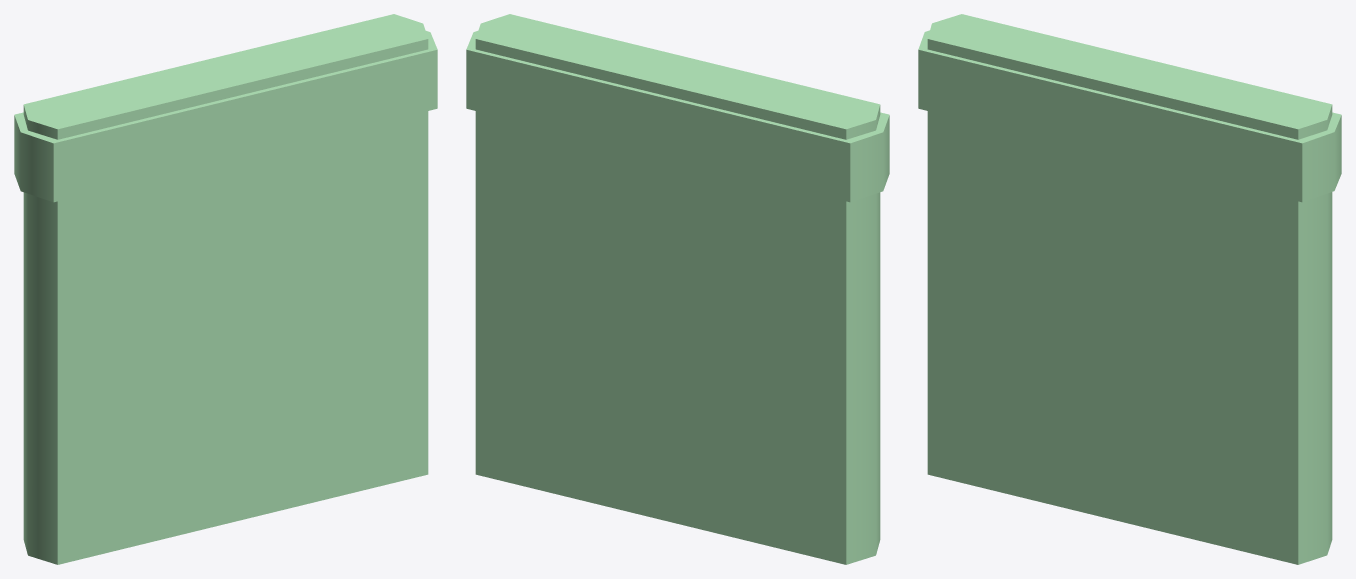
The picture shows the model from 3 angles, left to right: view 1: azimuth 30°, elevation 25°; view 2: azimuth 150°, elevation 25°; view 3: azimuth 330°, elevation 25°; orthographic projection.
Visible parts, largest first — view 1: Object01; view 2: Object01; view 3: Object01.
Boxes of the visible parts, box(x1,y1,x2,y2) form: Object01: box(14, 14, 437, 564); Object01: box(466, 14, 889, 564); Object01: box(918, 14, 1341, 564).
Size of the model in its own units: 304 by 309 by 50.42.
